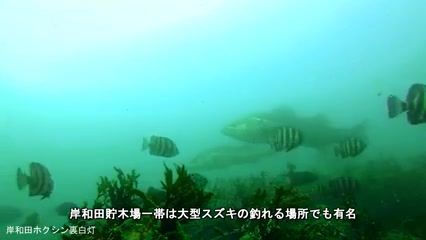ishidai: (13, 161, 60, 199), (139, 135, 183, 157), (268, 125, 298, 148)
